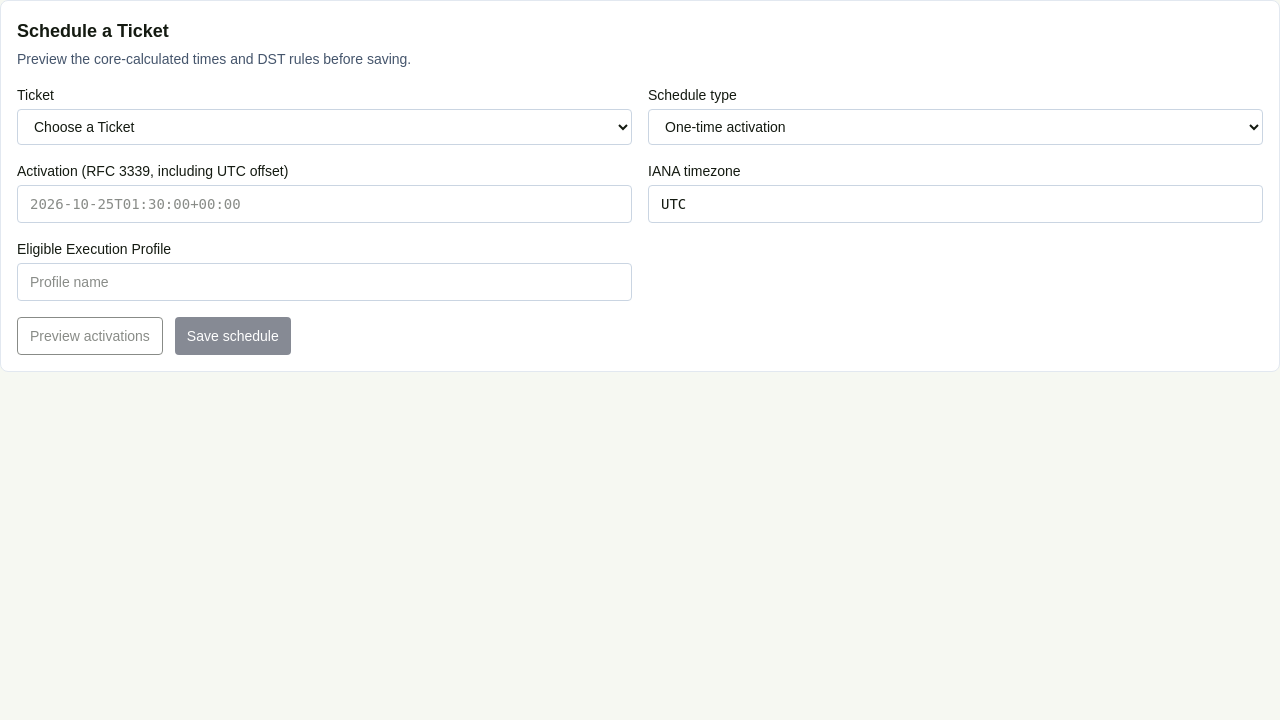
Test: schedule-editor › shows server-calculated activations and DST rules before saving
The image size is (1280, 720).
Select "CORE-T19 — Archive expired logs" in the dropdown with test id "schedule-ticket" at (324, 127), box [17,109,632,145]
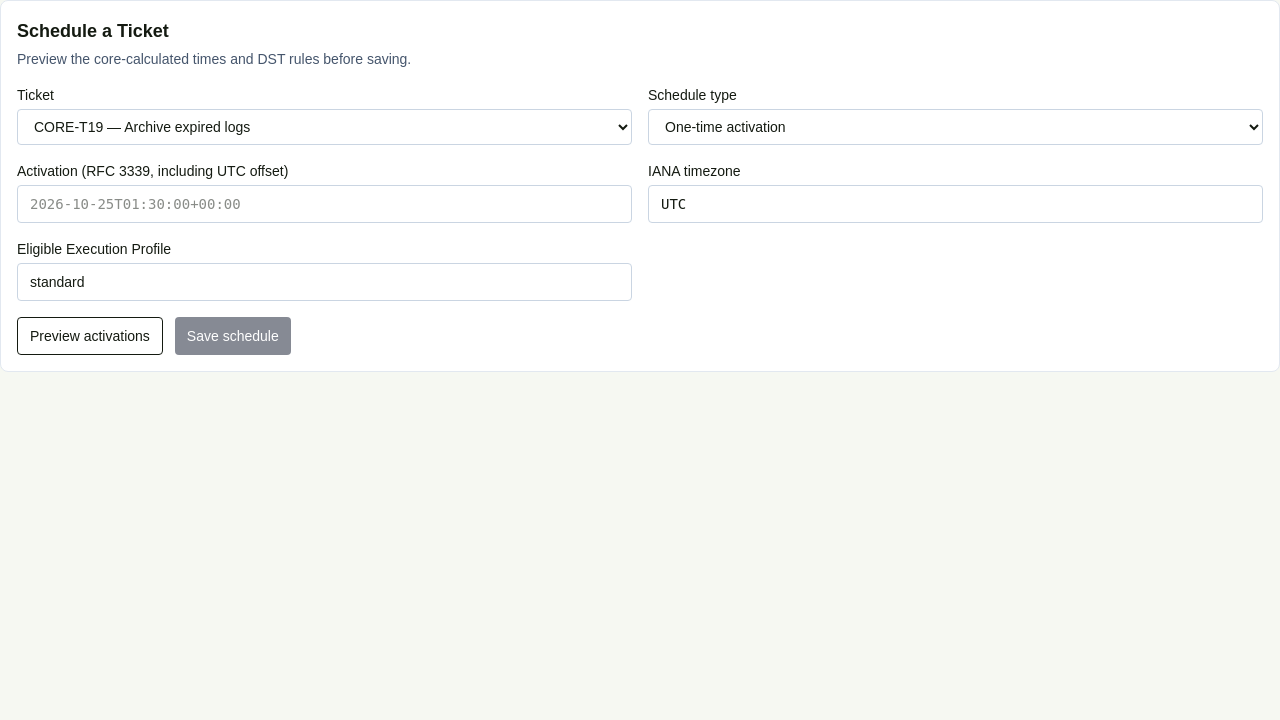
Select "Recurring Task" in the dropdown with test id "schedule-mode" at (956, 127), box [648,109,1263,145]
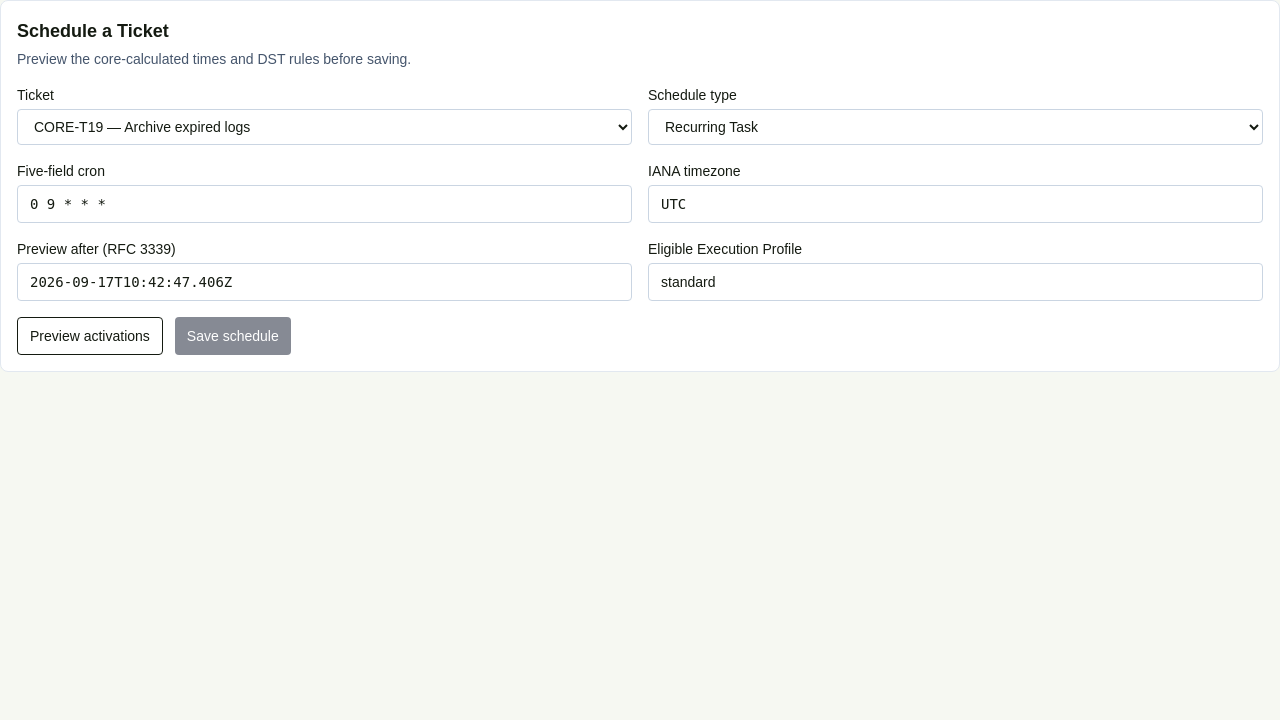
Type "30 1 * * *" into the field with test id "schedule-cron" at (324, 204), box [17,185,632,223]
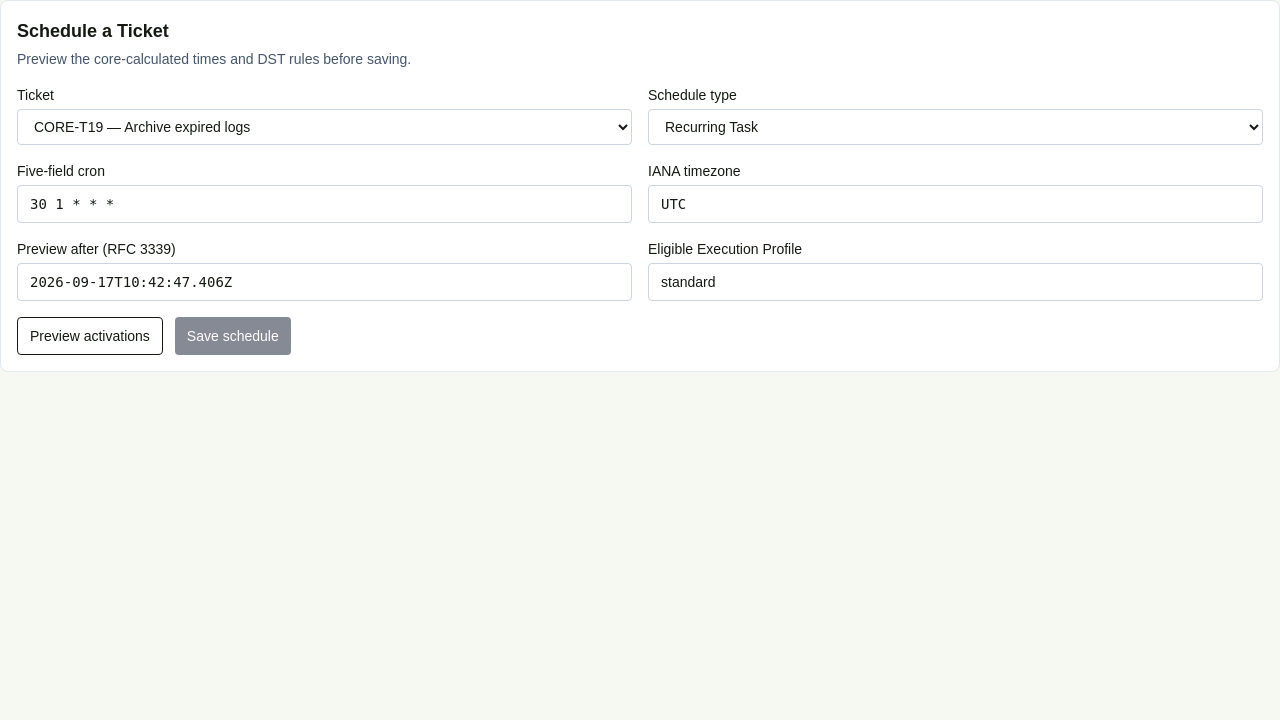
Replace the text in the field with test id "schedule-timezone" with "Europe/London" at (956, 204), box [648,185,1263,223]
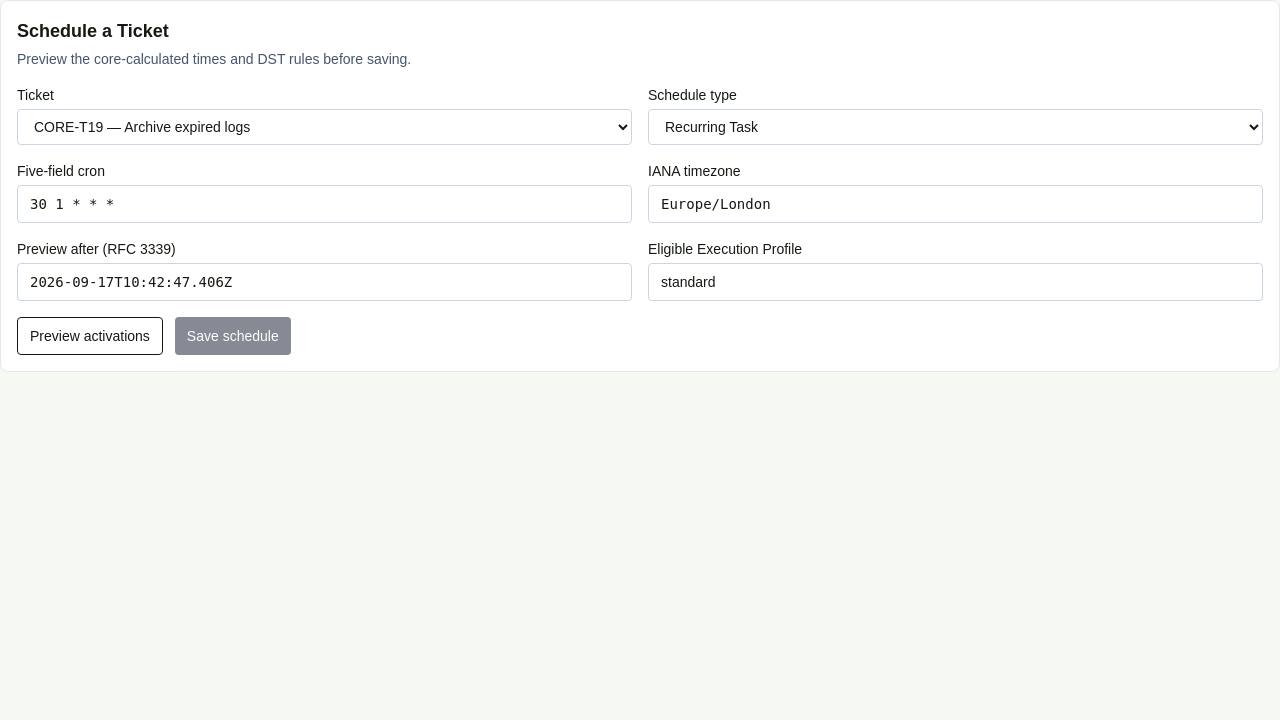
Replace the text in the field with test id "schedule-after" with "2026-03-28T23:00:00Z" at (324, 282), box [17,263,632,301]
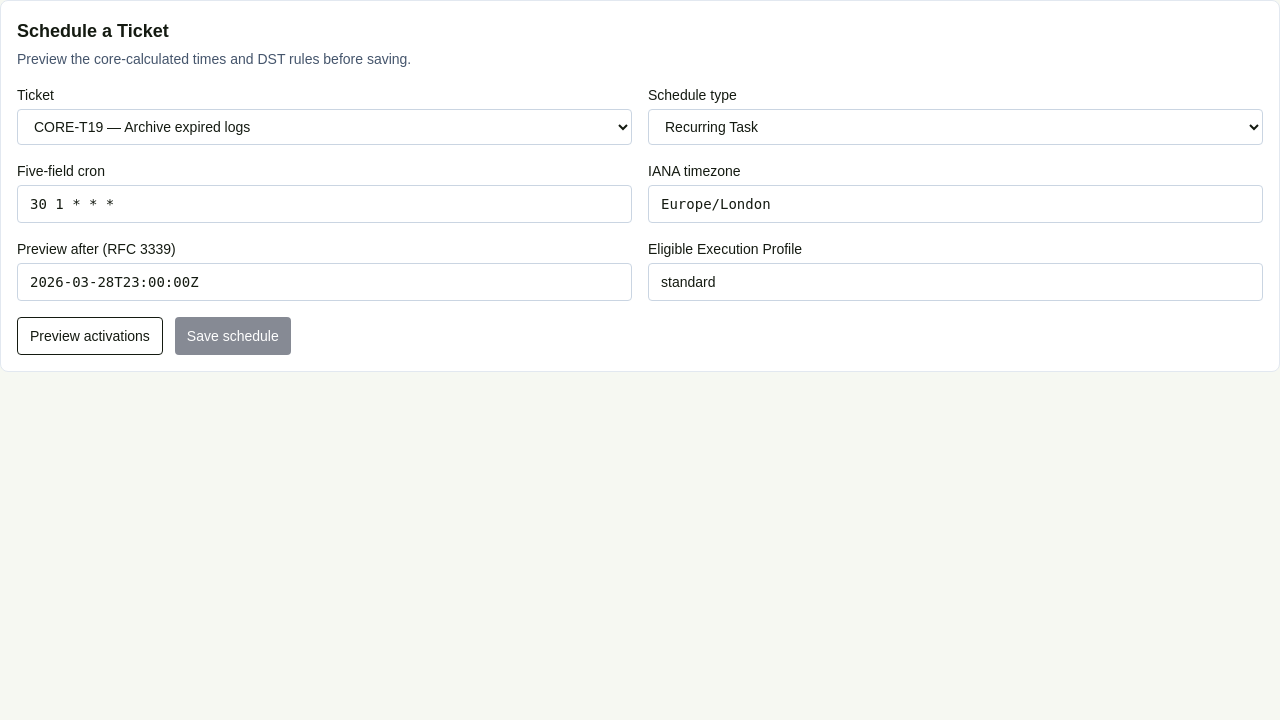
Expected: the button with test id "schedule-save" is disabled, [175,317,291,355]
Click the button with test id "schedule-preview" at (90, 336), box [17,317,163,355]
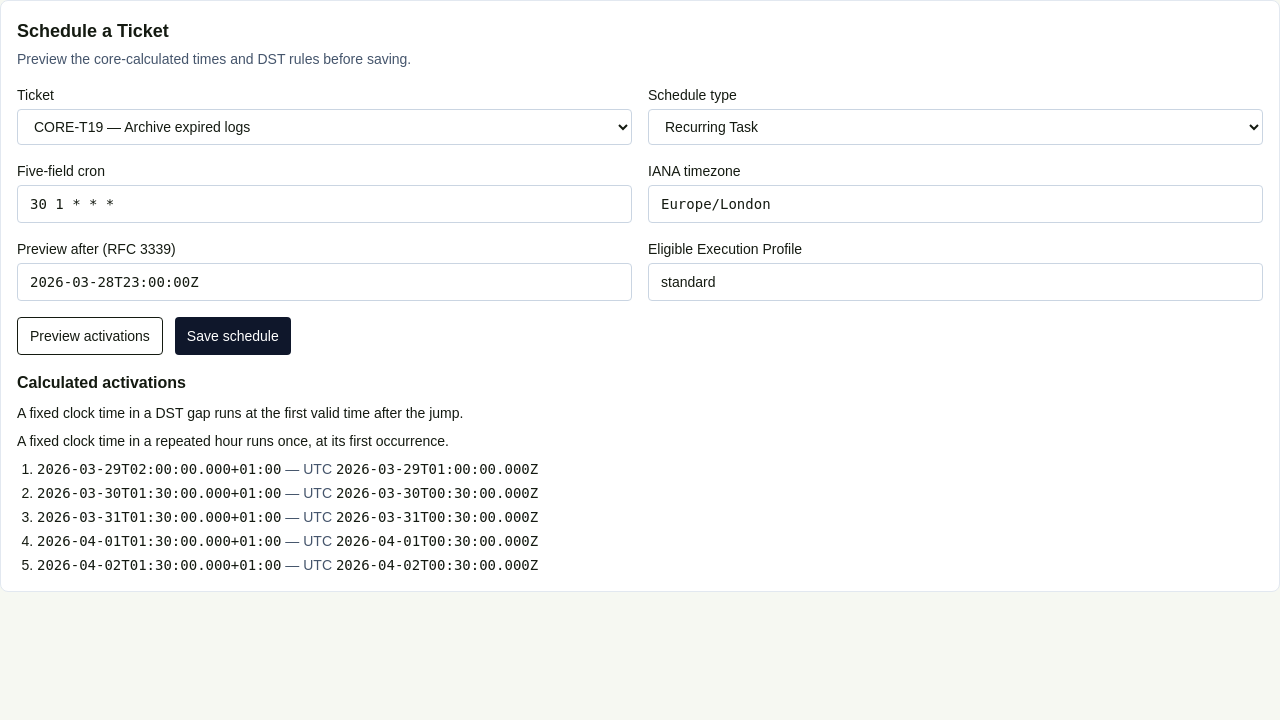
Expected: the text "2026-03-29T01:00:00.000Z" is shown, [336,461,538,477]
Expected: the text "2026-03-29T02:00:00.000+01:00" is shown, [37,461,281,477]
Expected: the text "first valid time" is shown, [17,405,463,421]
